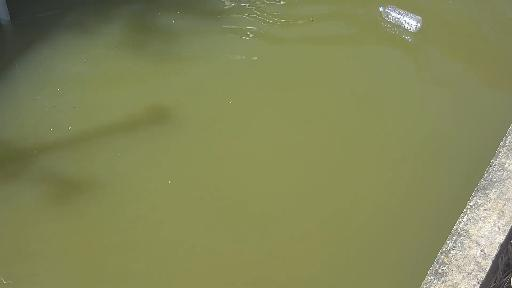plastic: (369, 0, 437, 43)
